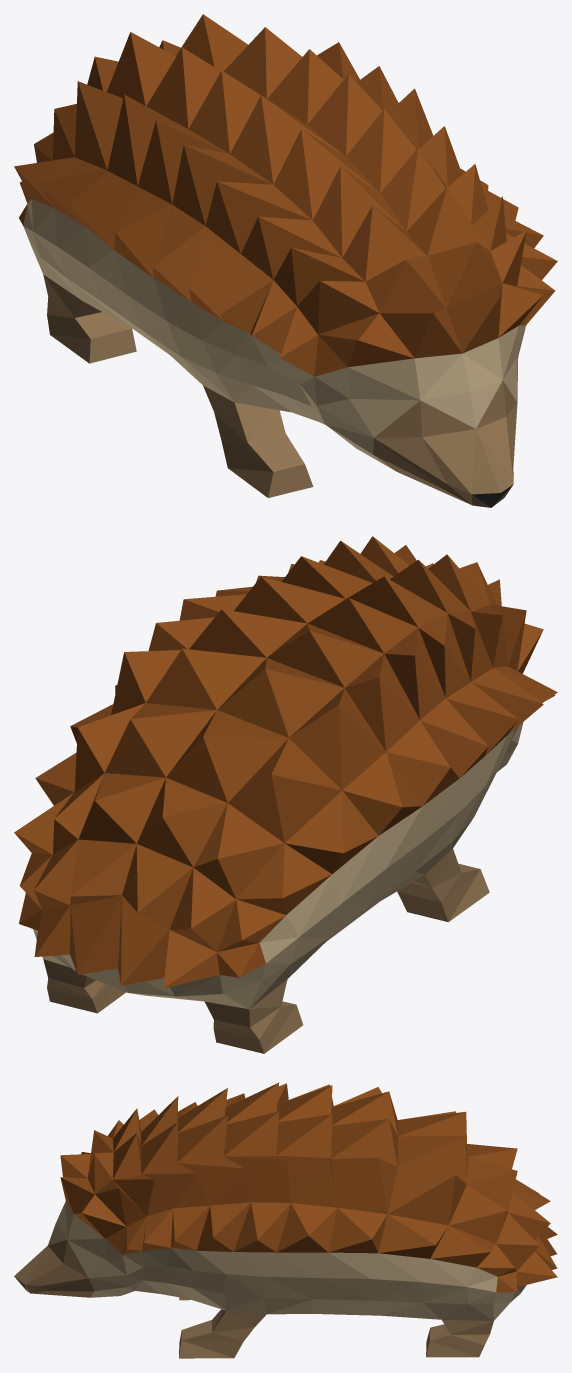
File: HedgehogLowPoly_v.1.1.fbx
3 views of the same model, one above another, from view 1: azimuth 30°, elevation 25°; view 2: azimuth 150°, elevation 25°; view 3: azimuth 270°, elevation 25° (orthographic). The views are drawn at different scales.
Parts seen in each view (by area): view 1: Hedgehog_v.1; view 2: Hedgehog_v.1; view 3: Hedgehog_v.1.
Boxes of the visible parts, box(x1,y1,x2,y2) form: Hedgehog_v.1: box(14, 14, 557, 507); Hedgehog_v.1: box(14, 536, 557, 1053); Hedgehog_v.1: box(14, 1082, 557, 1358).
Size of the model in its own units: 37.99 by 36 by 78.87.
